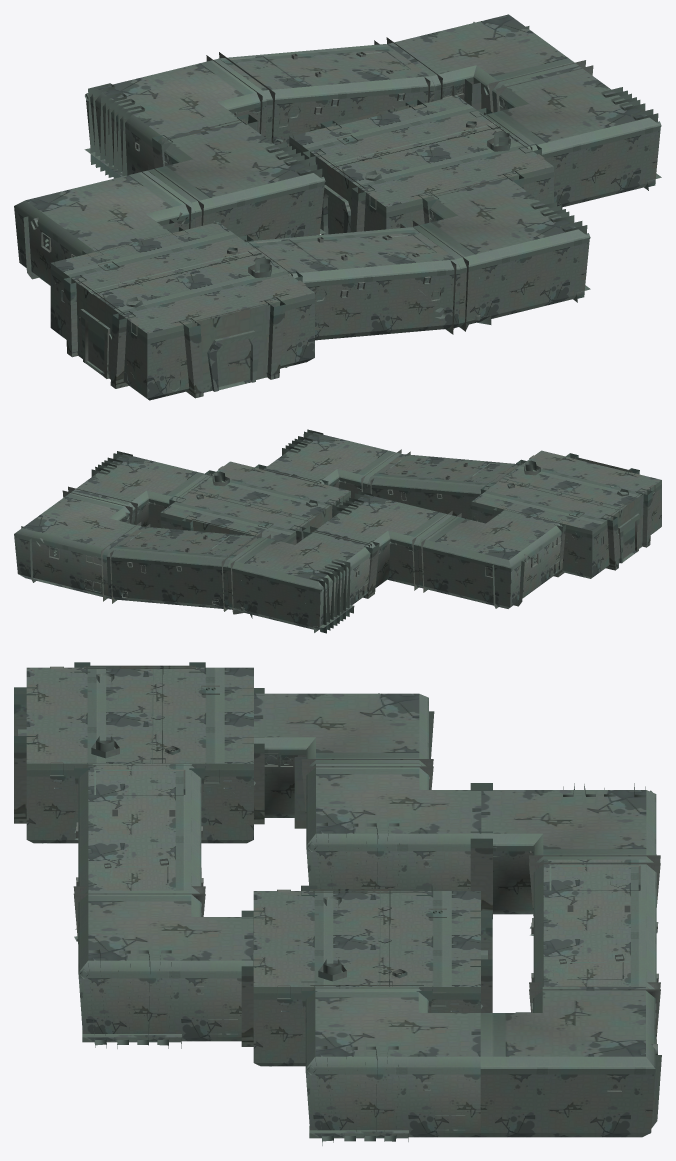
Rendered from Combined_Mesh_root_scene__4_e0ea2853__zombies2_diffuse_08_b0bdab26_c1f257.obj.
The picture shows the model from 3 angles, top to bottom: view 1: azimuth 30°, elevation 25°; view 2: azimuth 150°, elevation 25°; view 3: azimuth 270°, elevation 25°; orthographic projection. The views are drawn at different scales.
Size of the model in its own units: 76.84 by 12.64 by 57.04.
Materials: 171 (171 with a texture image).
